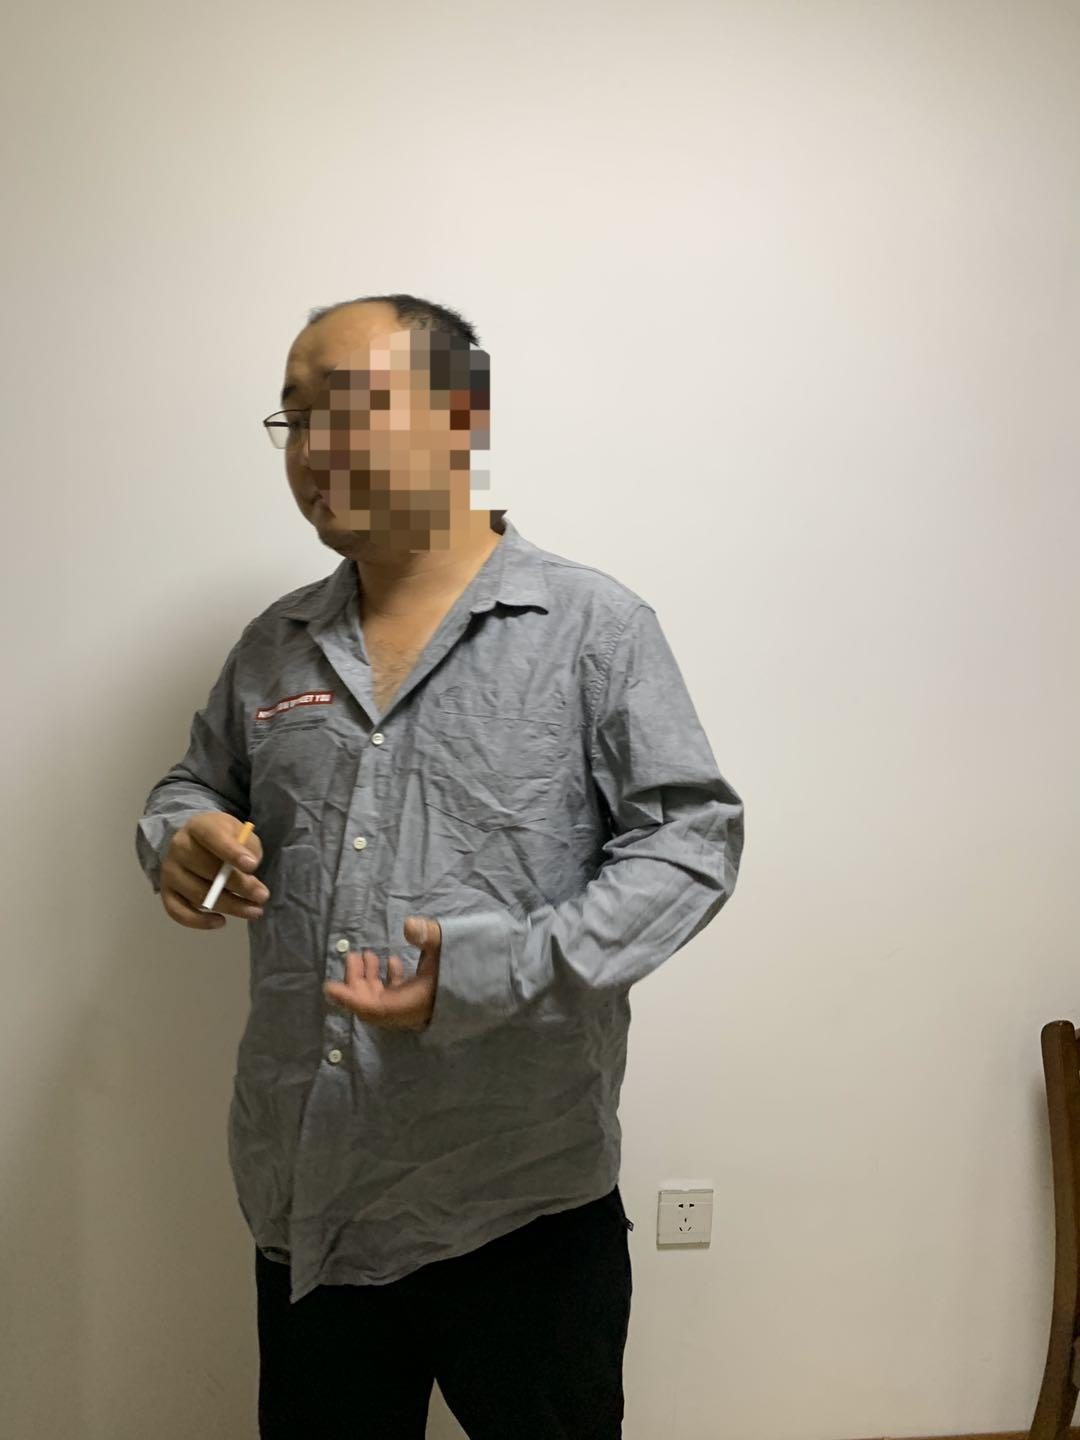smoke: (200, 818, 256, 916)
